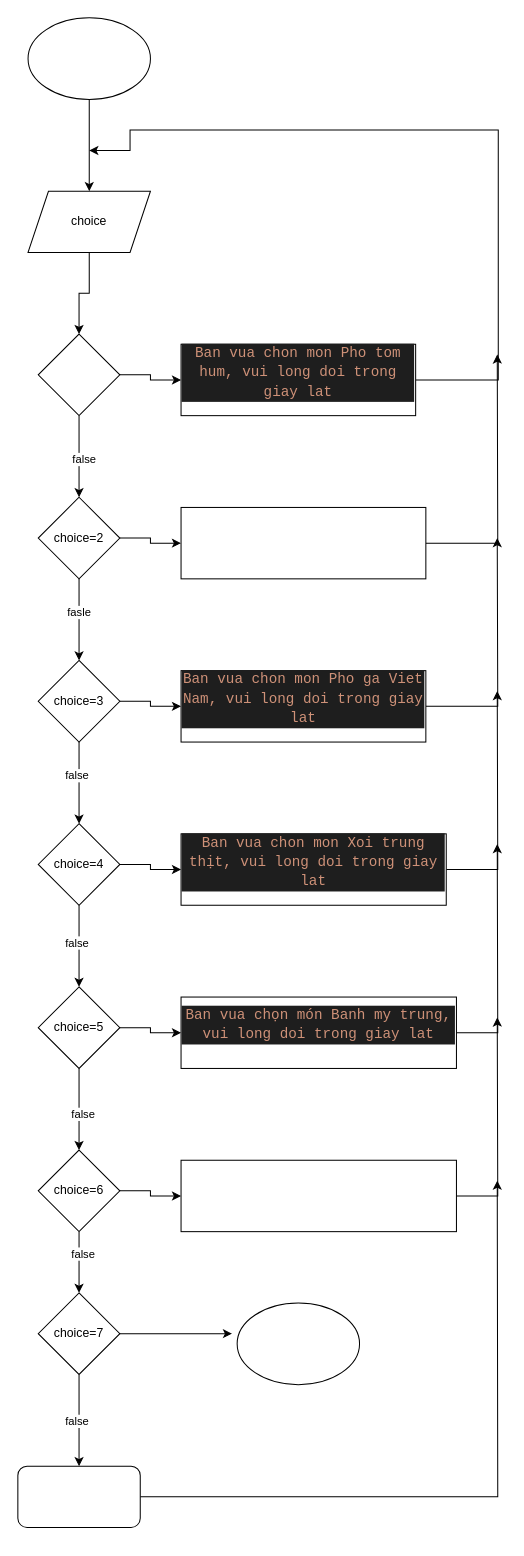
Image size: 524x1556. Some labels were removed from this diagram. Here are the shapes that lost their labels. From the top down, the centre of each, then its label:
(x=88, y=58): start
(x=78, y=374): choice=1
(x=303, y=542): Ban vua chon mon Pho bo Kobe, vui long doi trong giay lat
(x=318, y=1195): Ban vua chon mon My ton khong nguoi lai, vui long doi trong giay lat
(x=298, y=1343): end
(x=78, y=1496): Vui long chon tu 1-7
